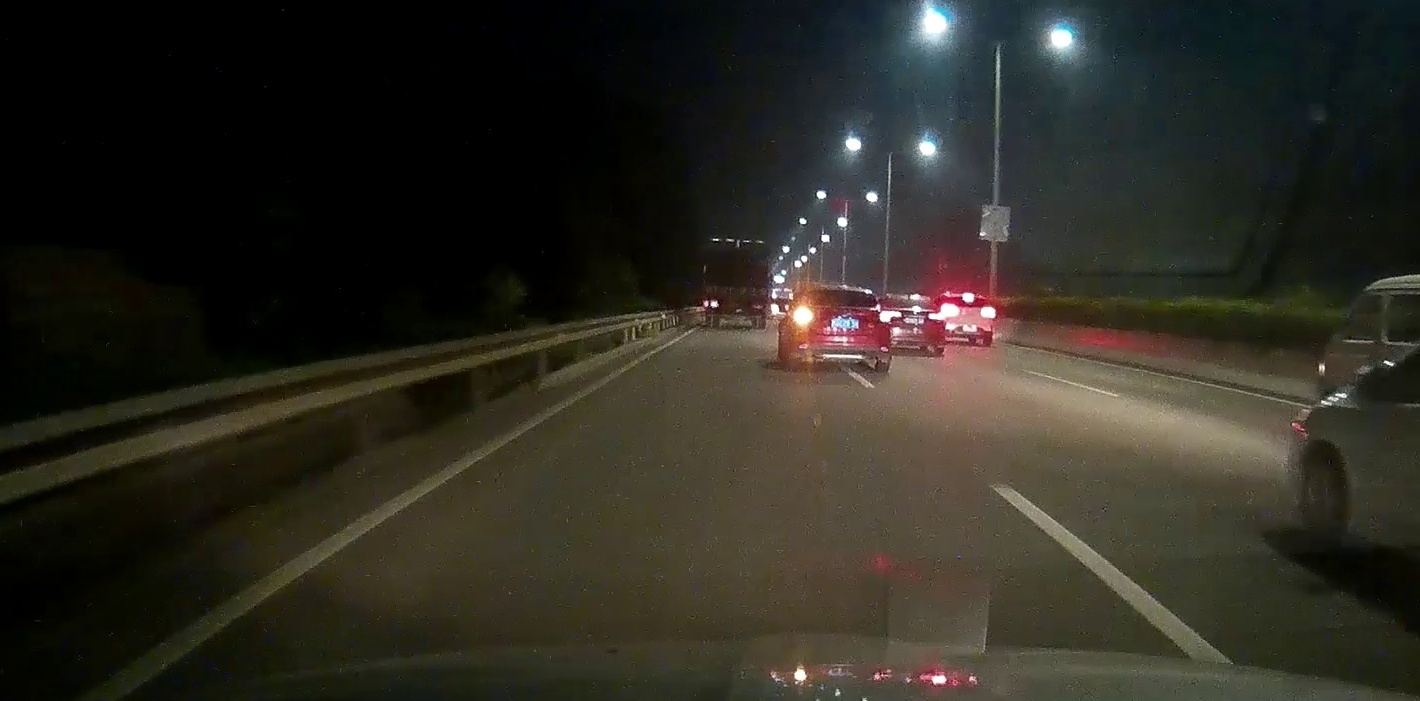L_light: (793, 305, 814, 326), (941, 303, 960, 317), (703, 300, 719, 308)
R_light: (980, 306, 995, 318), (877, 311, 890, 324), (753, 302, 769, 310)
T_light: (962, 293, 974, 303), (834, 290, 849, 293), (732, 290, 743, 292)
night-brake: (940, 293, 995, 347)
night-left: (791, 284, 891, 373)
night-no: (702, 238, 772, 330)
